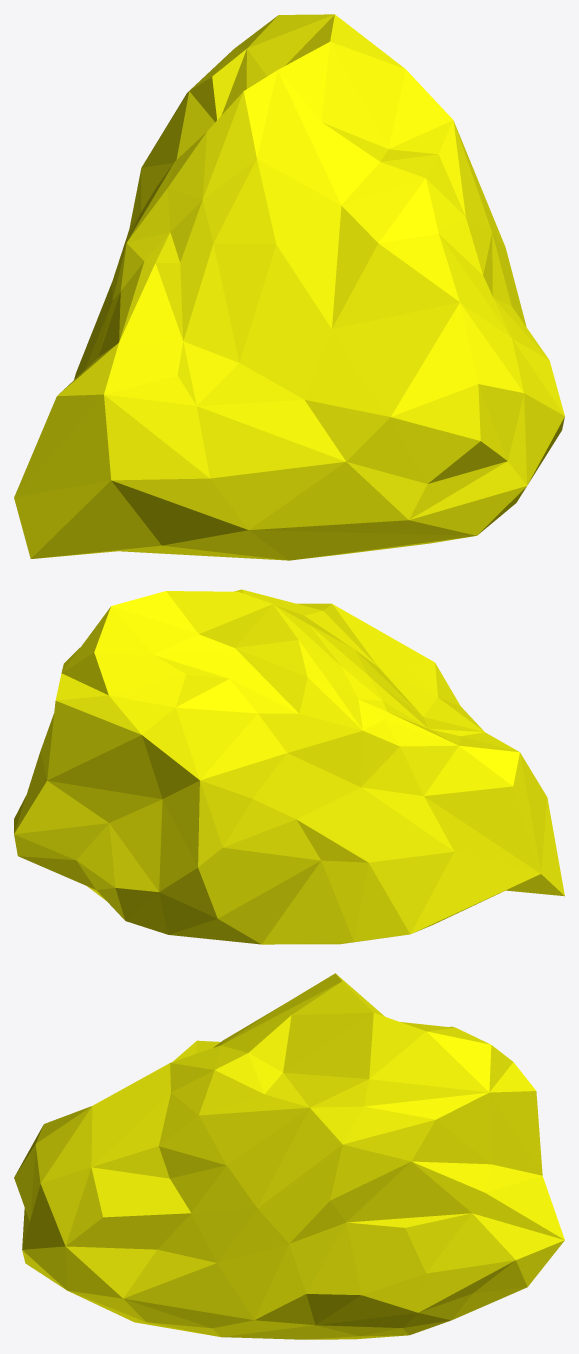
The model's file is rock_big01.glb.
3 renders of one model, top to bottom at view 1: azimuth 30°, elevation 25°; view 2: azimuth 150°, elevation 25°; view 3: azimuth 270°, elevation 25°, orthographic. The views are drawn at different scales.
Parts seen in each view (by area): view 1: rock_big01; view 2: rock_big01; view 3: rock_big01.
Part boxes in pixels (box(x1,y1,x2,y2)): rock_big01: box(14, 14, 564, 560); rock_big01: box(14, 589, 564, 944); rock_big01: box(14, 973, 564, 1339).
Bounding box in the file's own units: 4.01 × 2.93 × 4.39.
Materials: 1 (1 with a texture image).
